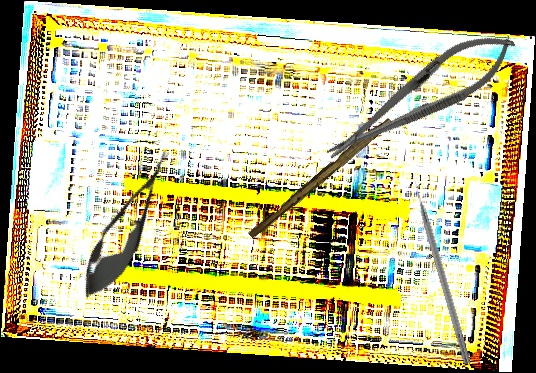Hook Surgical: (408, 170, 473, 366)
Micro Scissor: (70, 142, 185, 308)
Needle Holder: (314, 16, 526, 177)
Scalpel Handle: (247, 112, 393, 243)
